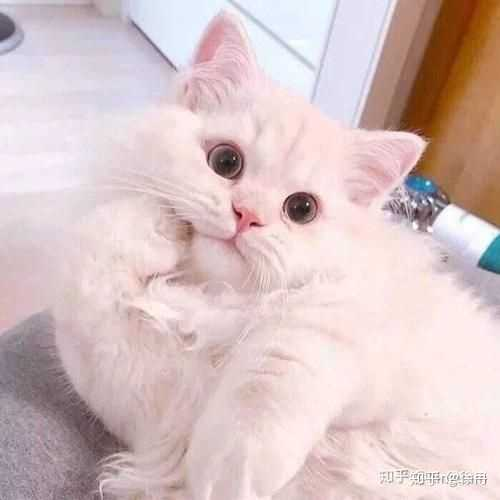cat: (135, 13, 425, 299)
